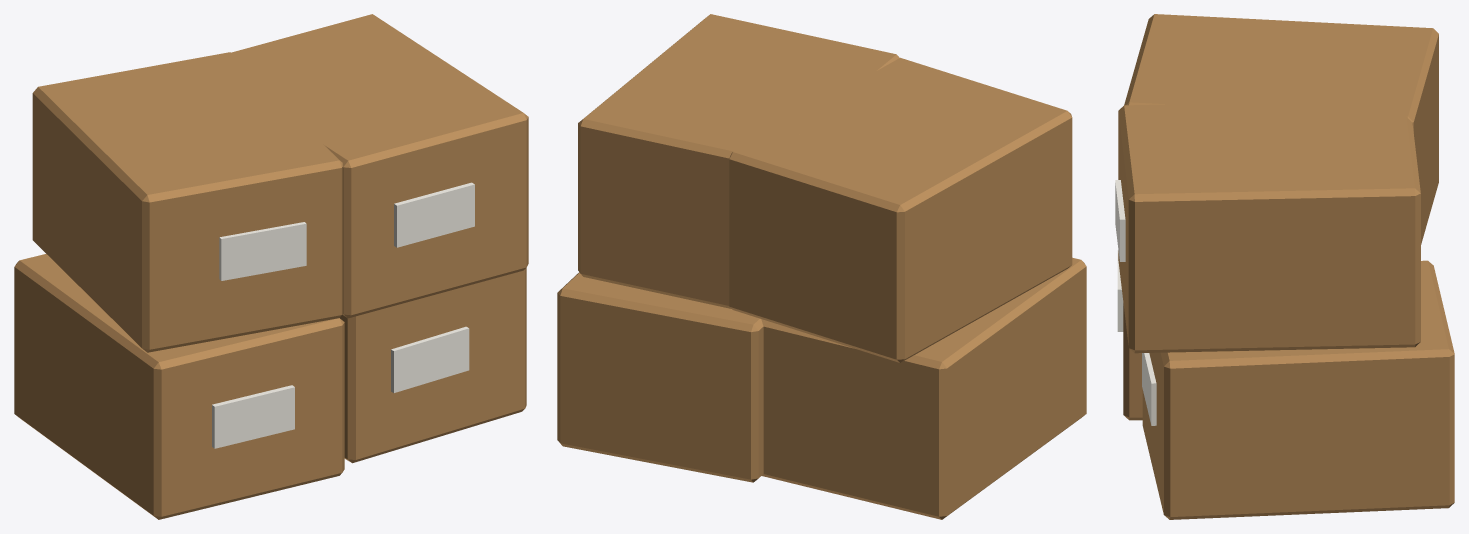
Rendered from file_boxes.glb.
3 renders of one model, left to right at view 1: azimuth 30°, elevation 25°; view 2: azimuth 150°, elevation 25°; view 3: azimuth 270°, elevation 25°, orthographic.
Parts seen in each view (by area): view 1: file_boxes_mesh; view 2: file_boxes_mesh; view 3: file_boxes_mesh.
Part boxes in pixels (<box>): file_boxes_mesh: <box>14,14,528,519</box>; file_boxes_mesh: <box>557,14,1086,519</box>; file_boxes_mesh: <box>1115,14,1454,519</box>.
Bounding box in the file's own units: 0.783 × 0.6 × 0.5807.
